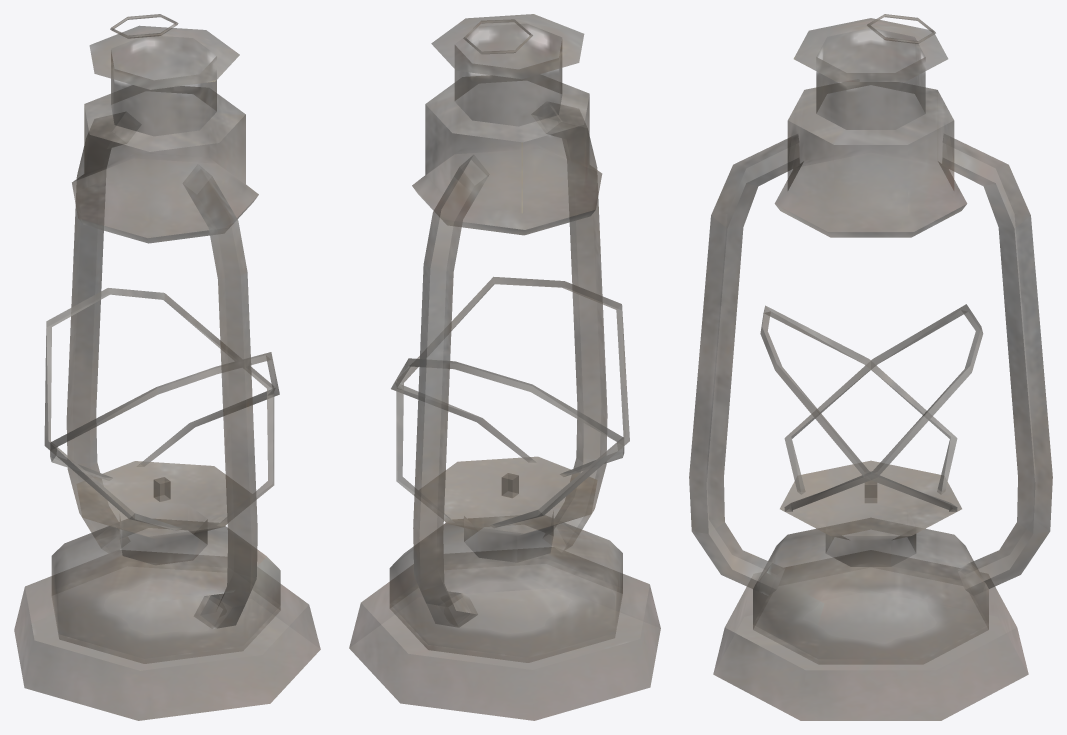
Rendered from Farol_G.glb.
The picture shows the model from 3 angles, left to right: view 1: azimuth 30°, elevation 25°; view 2: azimuth 150°, elevation 25°; view 3: azimuth 270°, elevation 25°; orthographic projection.
Parts seen in each view (by area): view 1: Farol_G; view 2: Farol_G; view 3: Farol_G.
Boxes of the visible parts, left/top/right/bottom form: Farol_G: left=14, top=14, right=320, bottom=720; Farol_G: left=349, top=14, right=660, bottom=720; Farol_G: left=689, top=14, right=1052, bottom=720.
Size of the model in its own units: 0.262 by 0.5959 by 0.3098.
1 material, 1 textured.
